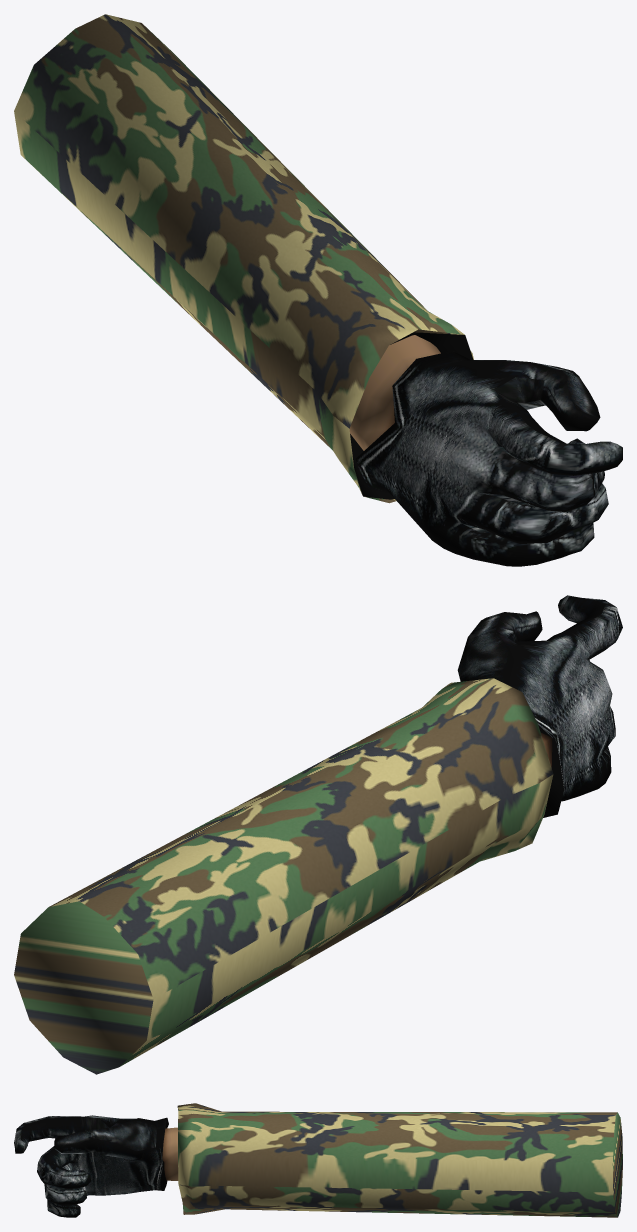
Rendered from hand.FBX.
3 renders of one model, top to bottom at view 1: azimuth 30°, elevation 25°; view 2: azimuth 150°, elevation 25°; view 3: azimuth 270°, elevation 25°, orthographic. The views are drawn at different scales.
Visible parts, largest first — view 1: hand; view 2: hand; view 3: hand.
Part boxes in pixels (box(x1,y1,x2,y2)): hand: box(14, 14, 622, 566); hand: box(14, 595, 622, 1074); hand: box(14, 1103, 622, 1217).
Size of the model in its own units: 9.5 by 41.86 by 8.68.
Materials: 1 (1 with a texture image).
